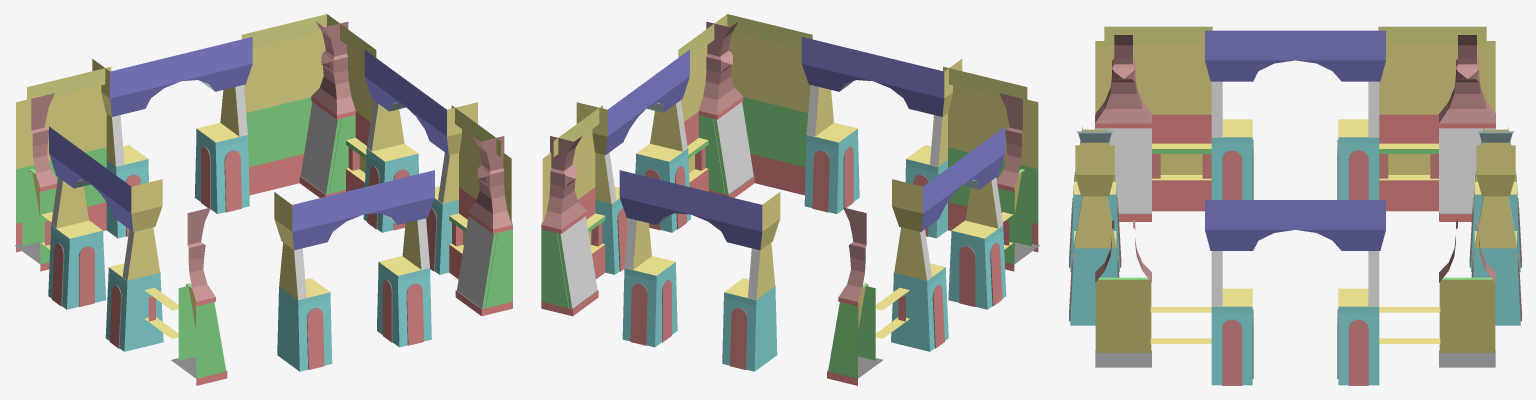
File: SSQ_dungeon_S__SSQ_Room03.gltf
3 views of the same model, side by side, from view 1: azimuth 30°, elevation 25°; view 2: azimuth 150°, elevation 25°; view 3: azimuth 270°, elevation 25° (orthographic). The views are drawn at different scales.
Visible parts, largest first — view 1: SSQ_Room03; view 2: SSQ_Room03; view 3: SSQ_Room03.
Part boxes in pixels (box(x1,y1,x2,y2)): SSQ_Room03: box(15, 14, 512, 385); SSQ_Room03: box(541, 14, 1039, 385); SSQ_Room03: box(1069, 26, 1521, 385).
Size of the model in its own units: 8.69 by 3.88 by 8.69.
